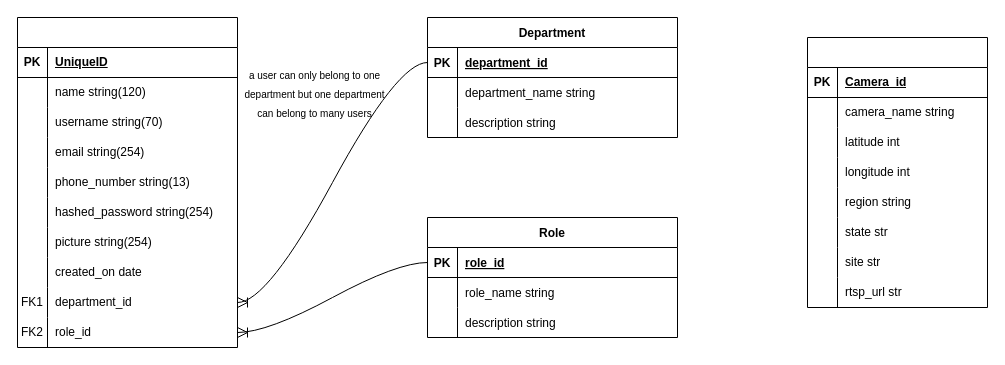
The diagram is 1005 pixels wide and 365 high, and some of its shapes have lost their labels. The shapes that lost their labels are listed below. From the top down, each one's box as (x1, y1, x2, y2) in pixels, then its label:
(16, 16, 238, 348): Users
(806, 36, 988, 308): Cameras
